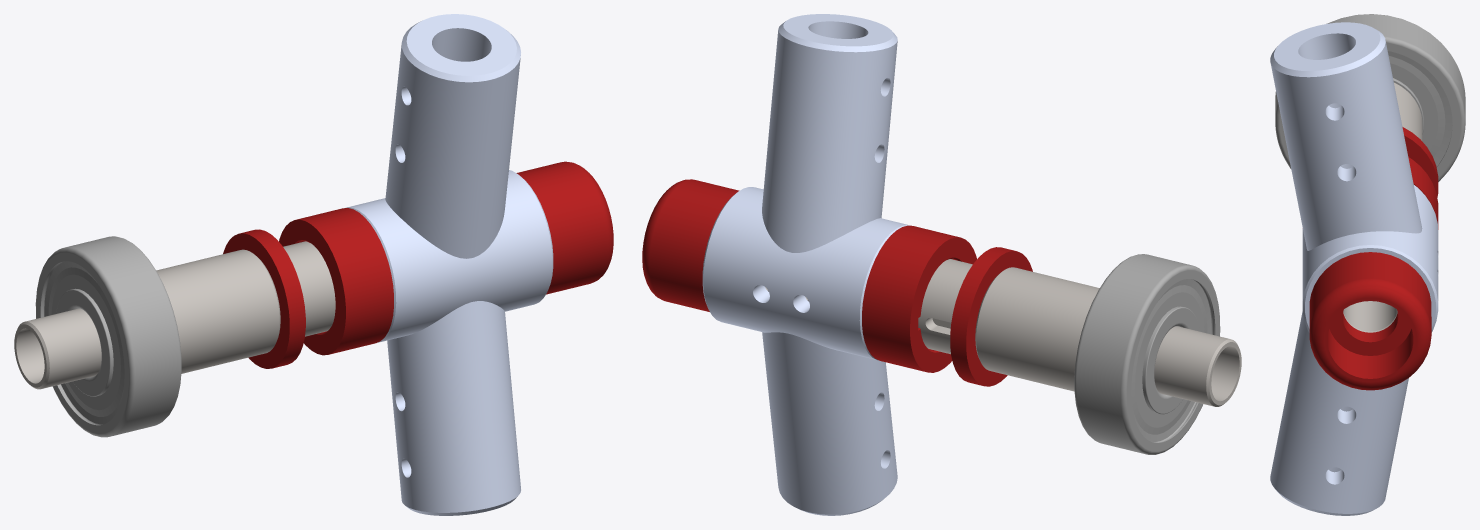
File: shaft.dae
3 views of the same model, side by side, from view 1: azimuth 30°, elevation 25°; view 2: azimuth 150°, elevation 25°; view 3: azimuth 270°, elevation 25° (orthographic). The views are drawn at different scales.
Parts seen in each view (by area): view 1: 01.02.03.02.02_01_Strut Link (×2), 01.02.03.01.01_01_Shaft, 01.02.03.02.01_01_Core, SKF_6302_2Z_11-1-solid1, 01.02.03.01.03_01_Spacer, 01.02.03.01.04_01_Spacer, SKF_6302_2Z_13-1-solid1, 01.02.03.01.05_01_Spacer; view 2: 01.02.03.02.02_01_Strut Link (×2), 01.02.03.01.01_01_Shaft, 01.02.03.02.01_01_Core, SKF_6302_2Z_11-1-solid1, 01.02.03.01.03_01_Spacer, 01.02.03.01.04_01_Spacer, SKF_6302_2Z_13-1-solid1, 01.02.03.01.05_01_Spacer; view 3: 01.02.03.02.02_01_Strut Link (×2), 01.02.03.01.04_01_Spacer, 01.02.03.02.01_01_Core, SKF_6302_2Z_11-1-solid1, SKF_6302_2Z_13-1-solid1, 01.02.03.01.01_01_Shaft, 01.02.03.01.05_01_Spacer, 01.02.03.01.03_01_Spacer.
Part boxes in pixels (x1,y1,x2,y2): 01.02.03.02.02_01_Strut Link (×2): (385, 14, 520, 515); 01.02.03.01.01_01_Shaft: (14, 241, 335, 389); 01.02.03.02.01_01_Core: (346, 170, 553, 342); SKF_6302_2Z_11-1-solid1: (35, 236, 181, 437); 01.02.03.01.03_01_Spacer: (279, 208, 393, 355); 01.02.03.01.04_01_Spacer: (516, 161, 613, 294); SKF_6302_2Z_13-1-solid1: (44, 261, 124, 424); 01.02.03.01.05_01_Spacer: (223, 229, 305, 368); 01.02.03.02.02_01_Strut Link (×2): (762, 14, 897, 515); 01.02.03.01.01_01_Shaft: (765, 259, 1241, 406); 01.02.03.02.01_01_Core: (702, 187, 910, 360); SKF_6302_2Z_11-1-solid1: (1074, 254, 1220, 454); 01.02.03.01.03_01_Spacer: (862, 225, 976, 372); 01.02.03.01.04_01_Spacer: (642, 179, 739, 311); SKF_6302_2Z_13-1-solid1: (1131, 279, 1211, 441); 01.02.03.01.05_01_Spacer: (950, 247, 1032, 386); 01.02.03.02.02_01_Strut Link (×2): (1270, 22, 1422, 515); 01.02.03.01.04_01_Spacer: (1309, 252, 1431, 390); 01.02.03.02.01_01_Core: (1302, 185, 1438, 332); SKF_6302_2Z_11-1-solid1: (1275, 14, 1465, 181); SKF_6302_2Z_13-1-solid1: (1387, 51, 1452, 165); 01.02.03.01.01_01_Shaft: (1343, 82, 1422, 332); 01.02.03.01.05_01_Spacer: (1402, 127, 1438, 197); 01.02.03.01.03_01_Spacer: (1408, 157, 1438, 229).
Bounding box in the file's own units: 0.139 × 0.0431 × 0.1125.
